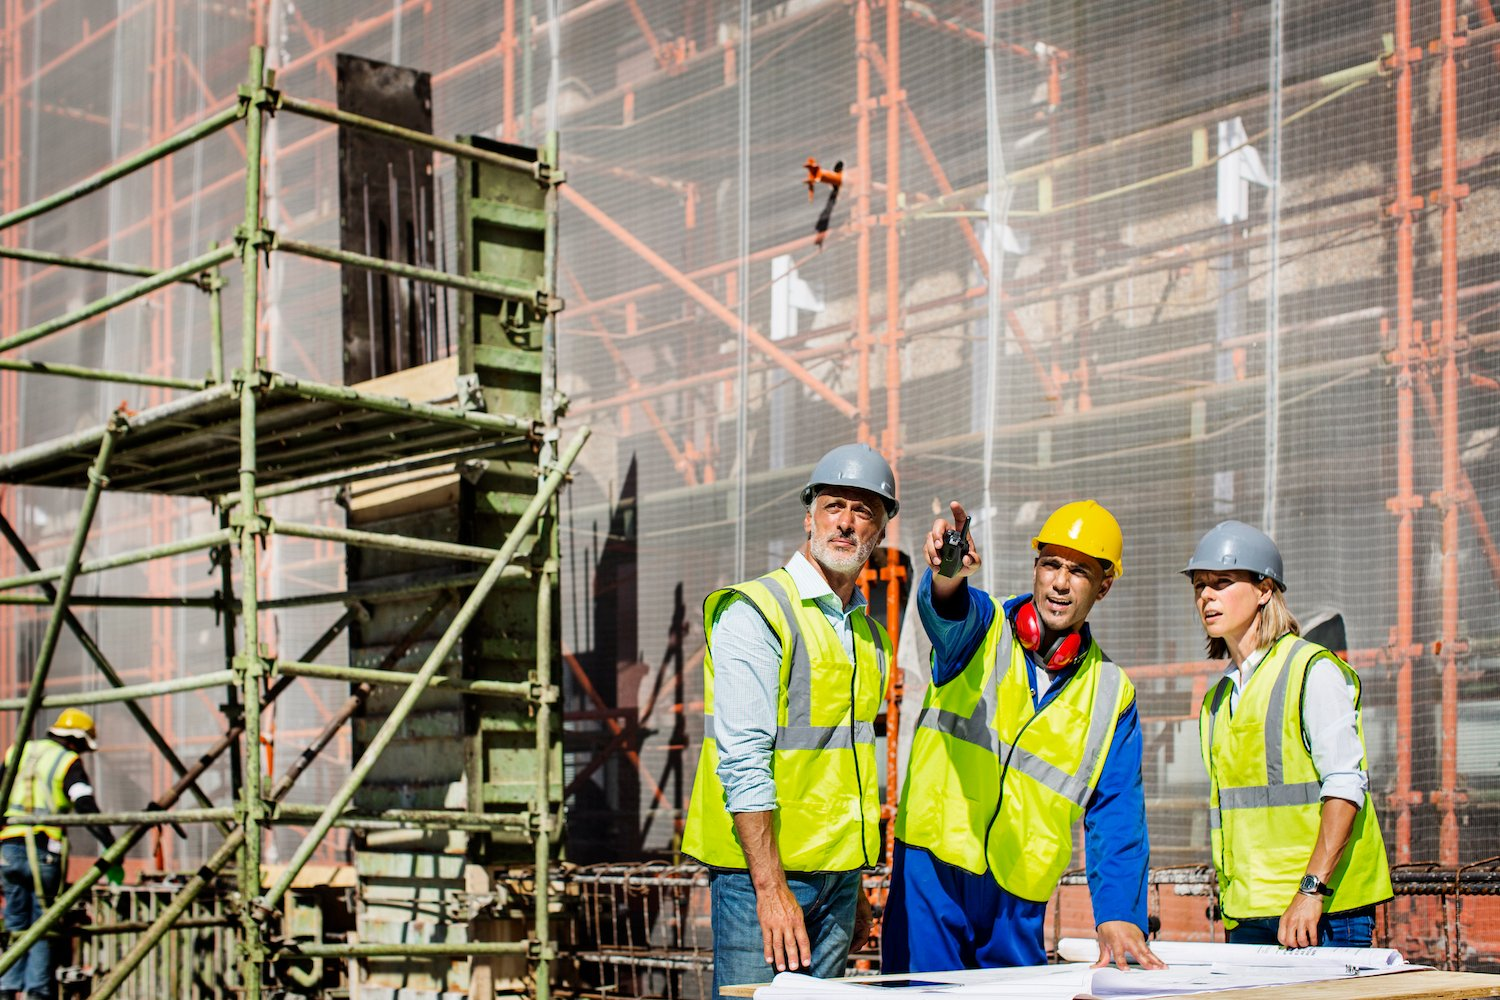jacket: (915, 584, 1119, 894), (698, 560, 894, 883), (1189, 660, 1388, 910)
yellow_hat: (1032, 500, 1133, 567)
